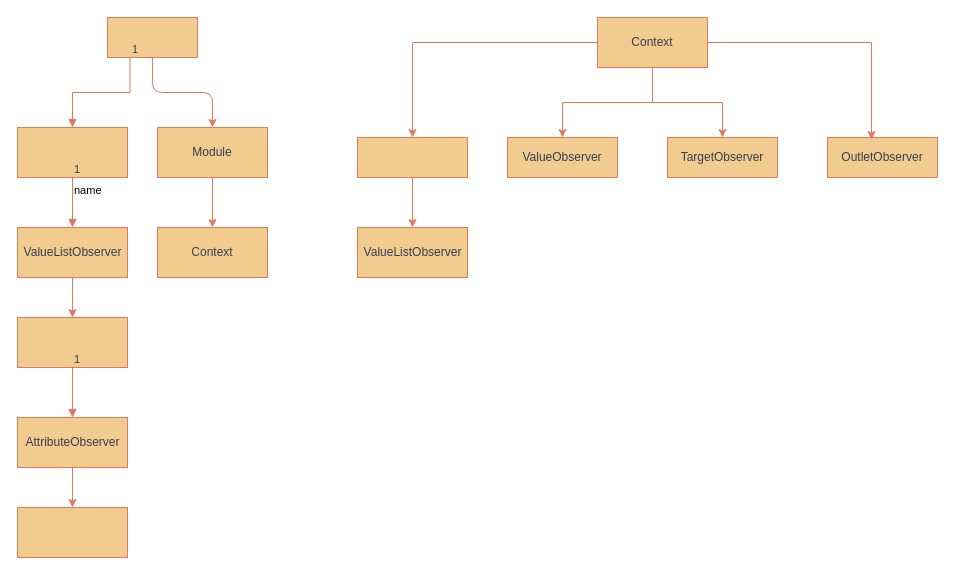
Some shapes in this 955 by 575 pixel diagram are drawn without their labels. Here are the shapes that lost their labels. From the top down, the centre of each, then its label:
At point 152,37: "router".
At point 72,152: "ScopeObserver".
At point 412,157: "BindingObserver".
At point 72,342: "TokenListObserver".
At point 72,532: "ElementObserver".
